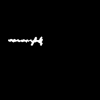double_crochet: (8, 37, 41, 44)
